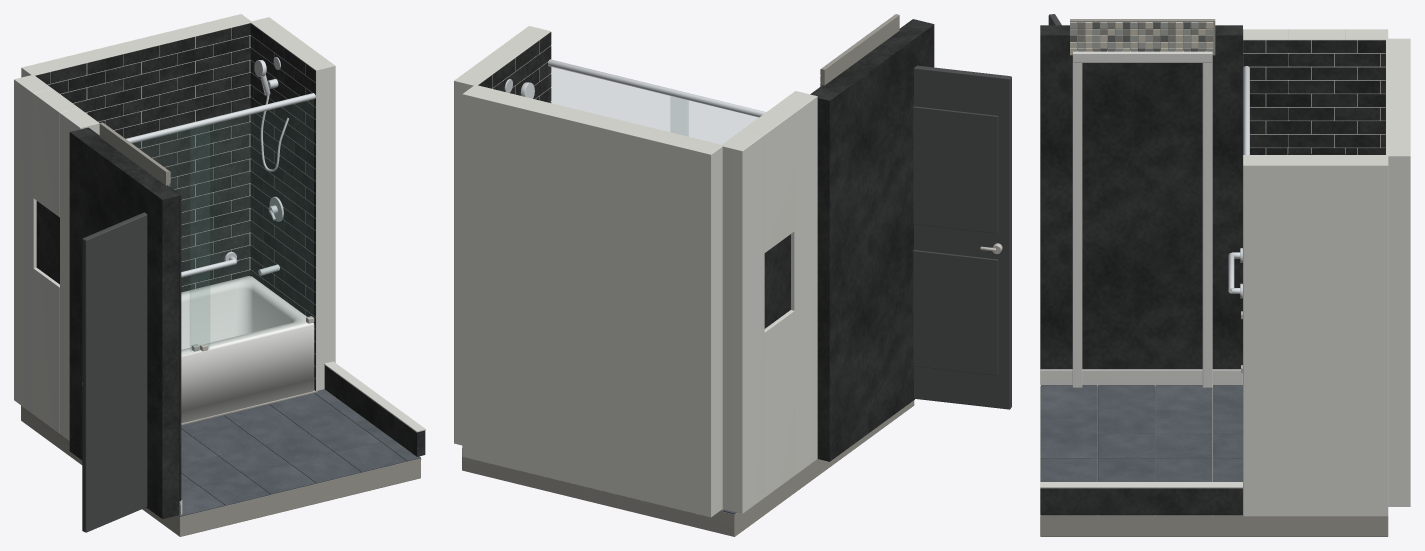
Rendered from one-week-shower-remodel.glb.
3 renders of one model, left to right at view 1: azimuth 30°, elevation 25°; view 2: azimuth 150°, elevation 25°; view 3: azimuth 270°, elevation 25°, orthographic. The views are drawn at different scales.
Visible parts, largest first — view 1: Charcoal subway surround · field tile, Sliding tub enclosure · right leaf, Charcoal entry return · wall · wall core, Paneled entry leaf, Charcoal niche end · wall core, Room floor · tile, Existing white tub, Charcoal return · field tile, Charcoal return · wall core, Sliding tub enclosure · left leaf, Room floor · foundation, Charcoal subway surround · wall core (+7 smaller); view 2: Charcoal subway surround · wall core, Charcoal entry return · wall · wall core, Charcoal niche end · wall core, Door inset molding, Paneled entry leaf, Charcoal return · wall core, Sliding tub enclosure · right leaf, Room floor · foundation, Tub and surround · foundation, Sliding tub enclosure · left leaf, Charcoal return · field tile, Charcoal tub storage niche · recess (+2 smaller); view 3: Charcoal entry return · wall · trowelled face, Charcoal return · wall core, Room floor · tile, Charcoal niche end · field tile, Charcoal subway surround · wall core, Door casing, Room floor · foundation, Sectioned wall · low edge, Charcoal niche end · wall core, Painted baseboard, Door casing · head, Mosaic above charcoal doorway (+8 smaller).
Boxes of the visible parts, x1,y1,x2,y2 form: Charcoal subway surround · field tile: [35, 23, 250, 292]; Sliding tub enclosure · right leaf: [190, 100, 313, 350]; Charcoal entry return · wall · wall core: [69, 128, 179, 518]; Paneled entry leaf: [82, 212, 147, 532]; Charcoal niche end · wall core: [14, 75, 99, 440]; Room floor · tile: [178, 389, 420, 516]; Existing white tub: [181, 276, 314, 423]; Charcoal return · field tile: [250, 23, 315, 390]; Charcoal return · wall core: [250, 17, 335, 390]; Sliding tub enclosure · left leaf: [131, 123, 209, 354]; Room floor · foundation: [21, 405, 420, 536]; Charcoal subway surround · wall core: [21, 14, 251, 288]; Charcoal subway surround · wall core: [462, 85, 722, 517]; Charcoal entry return · wall · wall core: [812, 19, 934, 461]; Charcoal niche end · wall core: [721, 91, 817, 513]; Door inset molding: [913, 106, 998, 375]; Paneled entry leaf: [914, 65, 1011, 409]; Charcoal return · wall core: [454, 26, 550, 445]; Sliding tub enclosure · right leaf: [548, 67, 688, 135]; Room floor · foundation: [462, 400, 914, 536]; Tub and surround · foundation: [474, 460, 723, 530]; Sliding tub enclosure · left leaf: [671, 97, 757, 143]; Charcoal return · field tile: [478, 32, 551, 102]; Charcoal tub storage niche · recess: [764, 234, 790, 328]; Charcoal entry return · wall · trowelled face: [1040, 34, 1242, 369]; Charcoal return · wall core: [1243, 155, 1388, 516]; Room floor · tile: [1040, 385, 1242, 515]; Charcoal niche end · field tile: [1243, 40, 1385, 154]; Charcoal subway surround · wall core: [1386, 38, 1410, 506]; Door casing: [1072, 62, 1212, 387]; Room floor · foundation: [1040, 517, 1388, 536]; Sectioned wall · low edge: [1040, 488, 1242, 514]; Charcoal niche end · wall core: [1243, 29, 1388, 154]; Painted baseboard: [1040, 369, 1242, 385]; Door casing · head: [1072, 51, 1212, 62]; Mosaic above charcoal doorway: [1070, 22, 1213, 54].
Bounding box in the file's own units: 2.39 × 2.39 × 2.06.
Materials: 16 (3 with a texture image).
